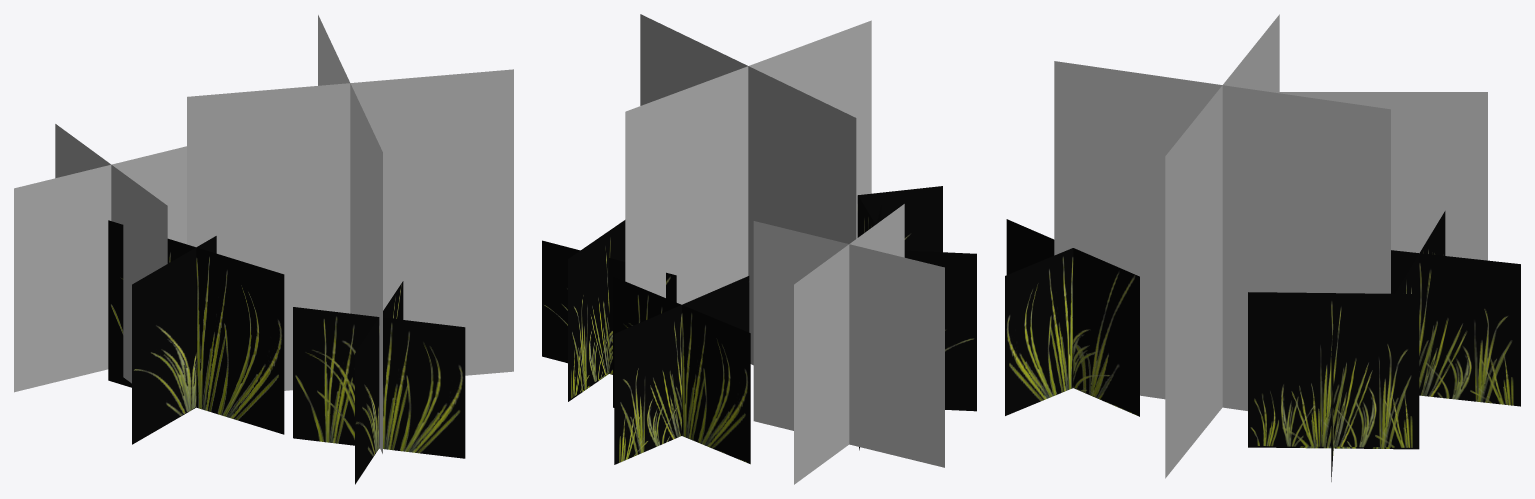
The model's file is grass_flower_patch2.fbx.
3 renders of one model, left to right at view 1: azimuth 30°, elevation 25°; view 2: azimuth 150°, elevation 25°; view 3: azimuth 270°, elevation 25°, orthographic. The views are drawn at different scales.
Parts seen in each view (by area): view 1: Plane.005, Plane.001; view 2: Plane.005, Plane.001; view 3: Plane.005, Plane.001.
Part boxes in pixels (x1=…): Plane.005: x1=14, y1=15, x2=513, y2=453; Plane.001: x1=108, y1=220, x2=465, y2=484; Plane.005: x1=625, y1=14, x2=944, y2=484; Plane.001: x1=542, y1=186, x2=976, y2=464; Plane.005: x1=1054, y1=14, x2=1487, y2=478; Plane.001: x1=1005, y1=211, x2=1520, y2=481.
Size of the model in its own units: 55.33 by 37.63 by 54.24.
